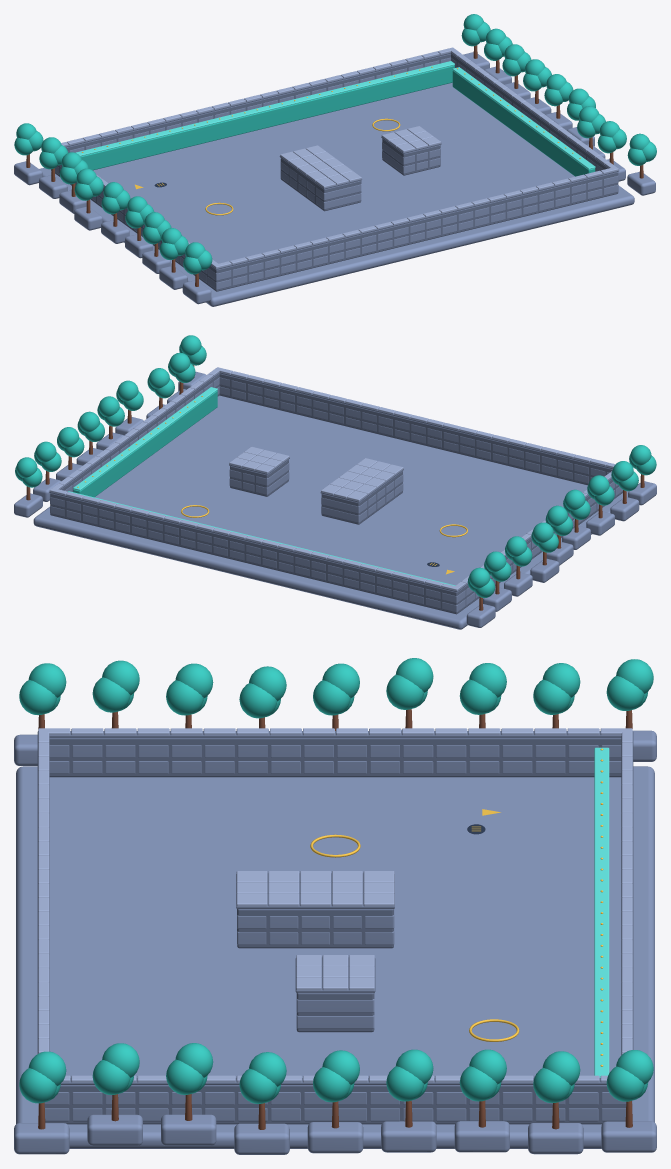
Rendered from echo.runtime.gltf.
3 views of the same model, one above another, from view 1: azimuth 30°, elevation 25°; view 2: azimuth 150°, elevation 25°; view 3: azimuth 270°, elevation 25° (orthographic). The views are drawn at different scales.
Visible parts, largest first — view 1: SOLID 0 border; view 2: SOLID 0 border; view 3: SOLID 0 border.
Boxes of the visible parts, left/top/right/bottom form: SOLID 0 border: left=14, top=14, right=656, bottom=306; SOLID 0 border: left=14, top=335, right=656, bottom=629; SOLID 0 border: left=14, top=658, right=656, bottom=1154.
Size of the model in its own units: 24.81 by 3.04 by 16.2.
